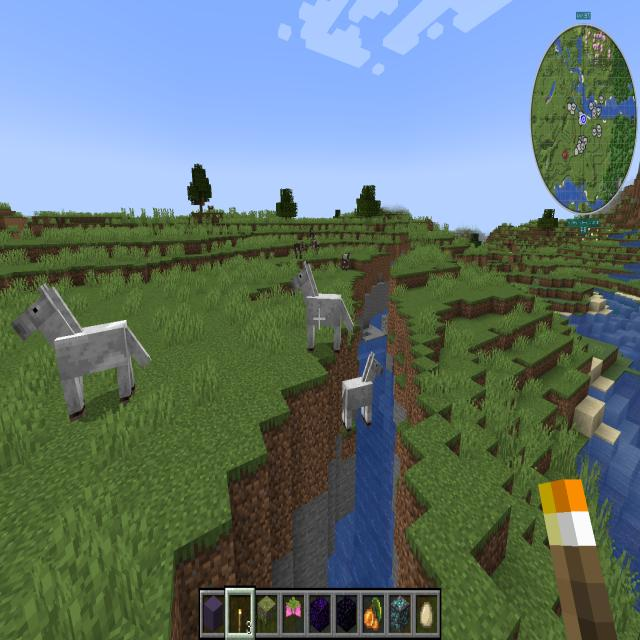cow: (340, 250, 351, 273), (293, 240, 305, 261), (309, 238, 321, 257), (308, 226, 316, 241), (207, 204, 214, 212)
